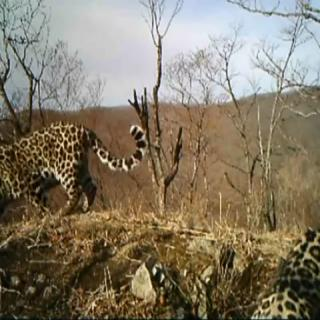Leopard: (0, 101, 152, 213)
